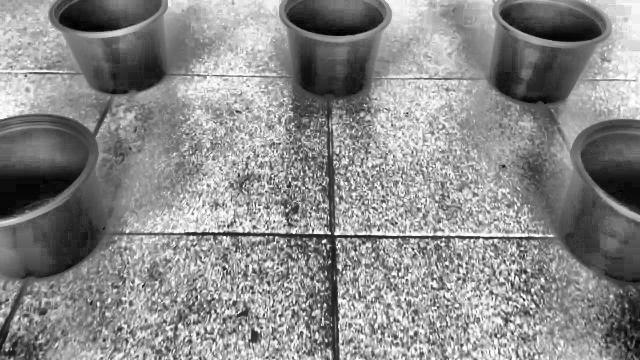pot: (0, 114, 108, 280), (556, 120, 640, 285), (488, 0, 614, 106), (48, 0, 170, 97), (279, 0, 392, 100)
